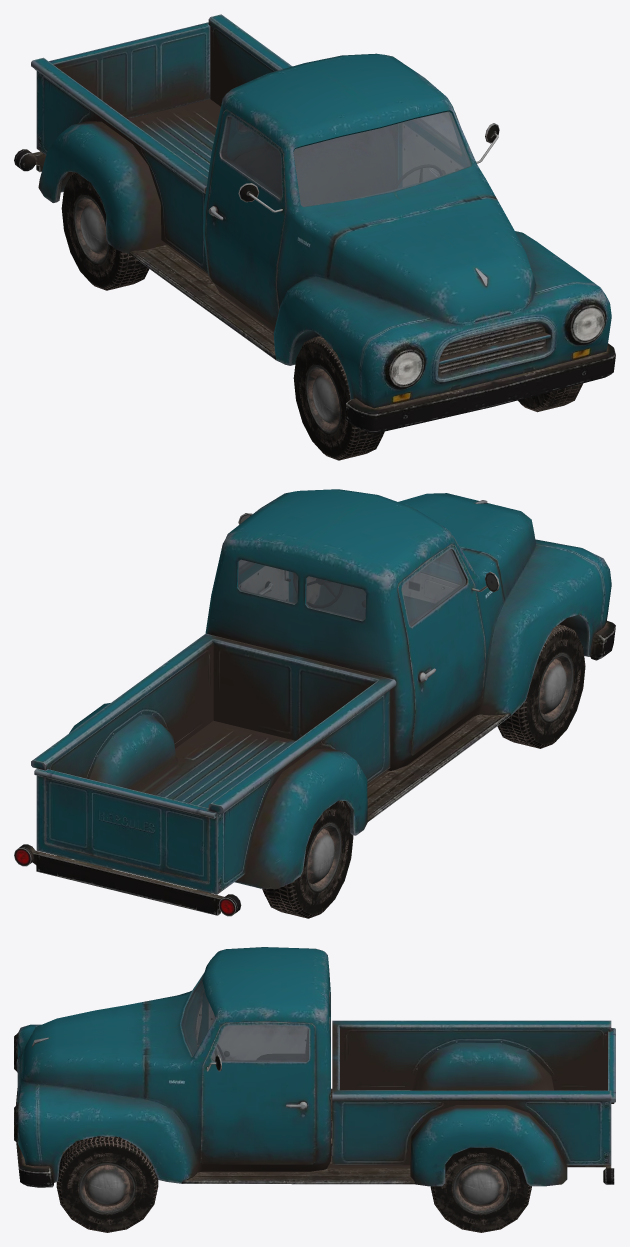
File: vehicle-pickup.glb
3 renders of one model, top to bottom at view 1: azimuth 30°, elevation 25°; view 2: azimuth 150°, elevation 25°; view 3: azimuth 270°, elevation 25°, orthographic. The views are drawn at different scales.
Visible parts, largest first — view 1: Box001, Cylinder012, Cylinder030, Cylinder031; view 2: Box001, Cylinder012, Cylinder030; view 3: Box001, Cylinder031, Cylinder032.
Boxes of the visible parts, box(x1,y1,x2,y2) form: Box001: box(14, 14, 615, 433); Cylinder012: box(293, 336, 384, 460); Cylinder030: box(61, 172, 149, 290); Cylinder031: box(518, 383, 582, 412); Box001: box(14, 489, 615, 916); Cylinder012: box(497, 624, 585, 748); Cylinder030: box(262, 800, 353, 918); Box001: box(14, 947, 615, 1187); Cylinder031: box(56, 1136, 158, 1232); Cylinder032: box(430, 1147, 531, 1232).
Bounding box in the file's own units: 765 × 762 × 1895.
Materials: 4 (4 with a texture image).
